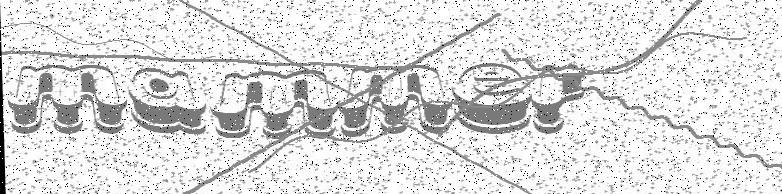a: (126, 65, 207, 139)
e: (446, 61, 532, 131)
m: (2, 62, 132, 139), (204, 67, 337, 141), (332, 63, 458, 137)
r: (526, 62, 589, 135)
